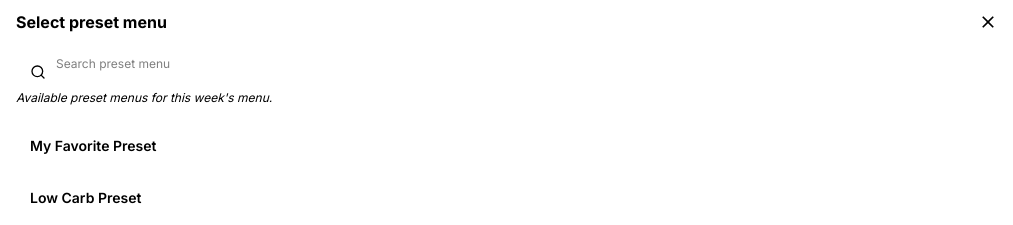
Test: SelectPresetModal Component › filters presets via search term input
Type "Low Carb" into the field with placeholder "Search preset menu" at (506, 64), box [16, 46, 996, 82]
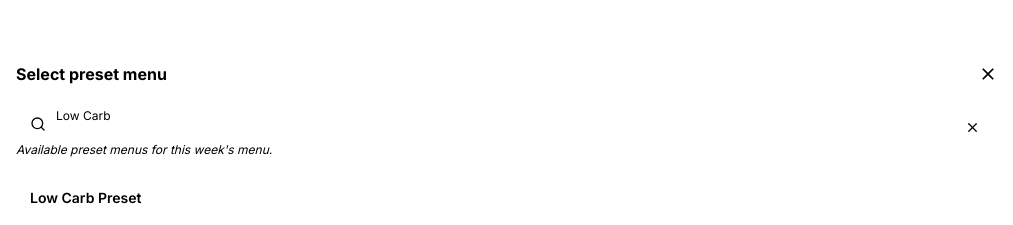
Expected: the text "Low Carb Preset" is shown, [30, 188, 141, 208]
Expected: the button "My Favorite Preset" is gone
